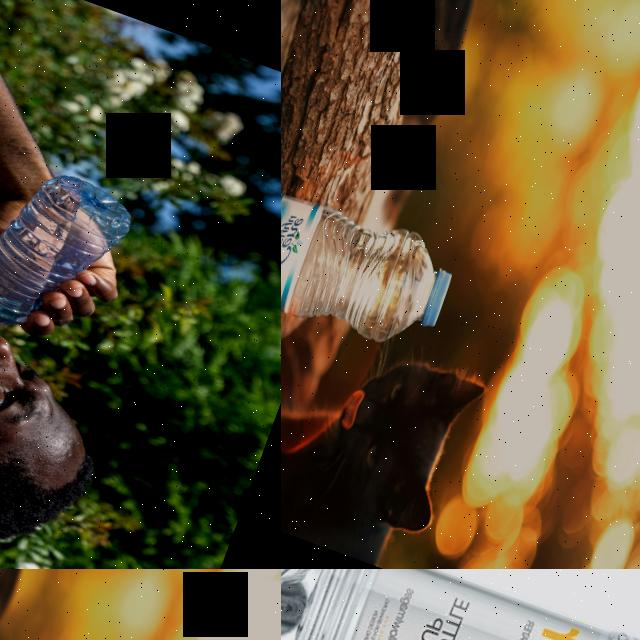bottle: (281, 172, 464, 368), (0, 149, 139, 372), (281, 569, 640, 640)
